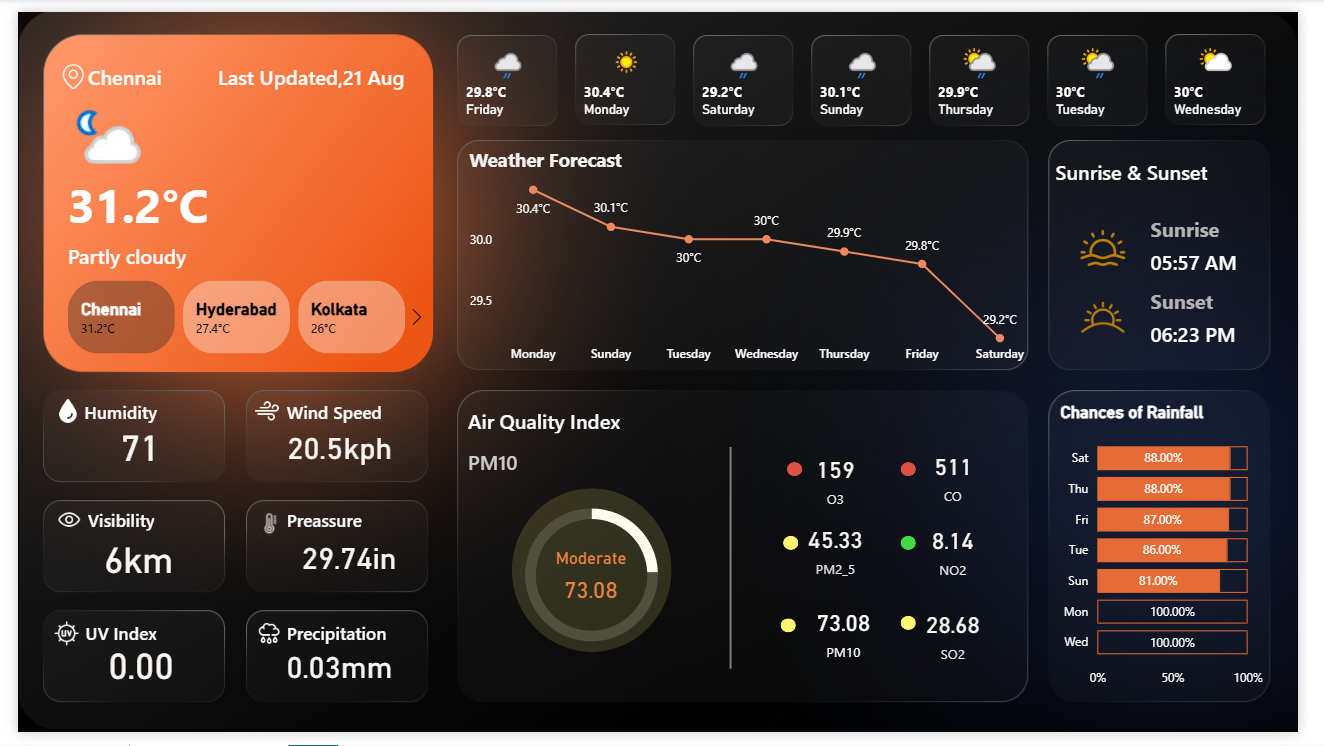

This screenshot's page, from the dashboard's own definition file:
{"tool":"powerbi","page":{"name":"Weather Report","canvas":[1280,720],"ordinal":0},"visuals":[{"type":"advancedSlicerVisual","fields":{"Values":["Locations.location.name"]},"box":[24.7,263.5,389.7,83.7],"z":0},{"type":"shape","box":[49.4,157.8,160.5,68.6],"z":1000},{"type":"shape","box":[49.4,212.7,273.1,61.7],"z":2000},{"type":"shape","box":[200.3,34.3,207.2,61.7],"z":3000},{"type":"shape","box":[70,34.3,130.4,61.7],"z":4000},{"type":"cardVisual","fields":{"Data":["Min(Current.current.condition.icon)"]},"box":[24.7,76.8,107,115.3],"z":5000},{"type":"image","box":[27.4,381.5,45.3,35.7],"z":6000},{"type":"image","box":[28.8,489.9,45.3,35.7],"z":7000},{"type":"image","box":[222.3,381.5,52.1,35.7],"z":8000},{"type":"image","box":[26.1,603.8,45.3,35.7],"z":9000},{"type":"image","box":[229.2,603.8,45.3,35.7],"z":10000},{"type":"image","box":[32.9,48,45.3,34.3],"z":11000},{"type":"shape","box":[65.9,369.1,130.4,61.7],"z":12000},{"type":"shape","box":[269,369.1,130.4,61.7],"z":13000},{"type":"shape","box":[269,590.1,130.4,61.7],"z":14000},{"type":"shape","box":[269,476.2,130.4,61.7],"z":15000},{"type":"shape","box":[70,476.2,130.4,61.7],"z":16000},{"type":"shape","box":[67.2,590.1,130.4,61.7],"z":17000},{"type":"card","fields":{"Values":["Sum(Current.current.humidity)"]},"box":[78.2,400.7,86.4,63.1],"z":18000},{"type":"card","fields":{"Values":["Table.Prep"]},"box":[245,622.2,153.5,62.1],"z":19000},{"type":"card","fields":{"Values":["Sum(Current.current.uv)"]},"box":[79.6,620.2,86.4,63.1],"z":20000},{"type":"card","fields":{"Values":["Table.Pressure"]},"box":[269.4,513,122.6,63.6],"z":21000},{"type":"card","fields":{"Values":["Table.Visiblity"]},"box":[66.2,515,108.8,61.2],"z":22000},{"type":"card","fields":{"Values":["Table.Wind_Speed"]},"box":[239.1,404.1,166.5,62],"z":23000},{"type":"advancedSlicerVisual","fields":{"Values":["Forecast_Days.Day_Name"]},"box":[429.9,12.6,833.3,110.3],"z":24000},{"type":"lineChart","title":"Weather Forecast","fields":{"Y":["Sum(Forecast_Days.forecast.forecastday.day.avgtemp_c)"],"Category":["Forecast_Days.Day_Name"]},"box":[446.8,134.7,571.9,225.5],"z":25000},{"type":"shape","box":[1038,134.7,189.7,48.1],"z":26000},{"type":"shape","box":[1132.9,225.5,100.4,49.5],"z":27000},{"type":"shape","box":[1132.9,297,100.4,49.5],"z":28000},{"type":"shape","box":[1132.9,192.5,100.4,49.5],"z":29000},{"type":"shape","box":[1132.9,264,100.4,49.5],"z":30000},{"type":"image","box":[1051.8,269.5,67.4,70.1],"z":31000},{"type":"image","box":[1051.8,209,67.4,55],"z":32000},{"type":"hundredPercentStackedBarChart","title":"Chances of Rainfall","fields":{"Category":["Forecast_Days.Day_Name2"],"Y":["Sum(Forecast_Days.forecast.forecastday.day.daily_chance_of_rain)","o.Left_Value_Rain"]},"box":[1037.5,389.7,212.3,294.4],"z":33000},{"type":"shape","box":[450,383.6,189.4,48.3],"z":34000},{"type":"card","fields":{"Values":["Sum(Current.current.air_quality.co)"]},"box":[878.6,428.9,112.7,70],"z":35000},{"type":"card","fields":{"Values":["Sum(Current.current.air_quality.no2)"]},"box":[878.8,502.5,112.5,70],"z":36000},{"type":"card","fields":{"Values":["Sum(Current.current.air_quality.so2)"]},"box":[878.6,585.7,112.7,70],"z":37000},{"type":"card","fields":{"Values":["Sum(Current.current.air_quality.o3)"]},"box":[761.6,431.5,112.7,70],"z":38000},{"type":"card","fields":{"Values":["Sum(Current.current.air_quality.pm2_5)"]},"box":[761.6,501.5,112.7,70],"z":39000},{"type":"card","fields":{"Values":["Sum(Current.current.air_quality.pm10)"]},"box":[525,536.2,96.2,63.8],"z":40000},{"type":"shape","box":[768.4,449.6,15.5,14.3],"z":41000},{"type":"shape","box":[882.4,449.6,15.5,14.3],"z":42000},{"type":"shape","box":[882.4,523.5,15.5,14.3],"z":43000},{"type":"shape","box":[882.4,603.8,15.5,14.3],"z":44000},{"type":"shape","box":[764.5,523.5,15.5,14.3],"z":45000},{"type":"shape","box":[761.9,606.4,15.5,14.3],"z":46000},{"type":"shape","box":[622,435.4,180.1,221.6],"z":47000},{"type":"donutChart","fields":{"Y":["Sum(Current.current.air_quality.pm10)","oo.Left_pm10"]},"box":[469.3,475.3,209.9,176.1],"z":48000},{"type":"shape","box":[493.8,476.2,160,163.8],"z":49000},{"type":"card","fields":{"Values":["Sum(Current.current.air_quality.pm10)"]},"box":[777.5,587.5,96.2,63.8],"z":50000},{"type":"shape","box":[450,436.2,75,25],"z":51000},{"type":"image","box":[225,492.5,52.5,38.8],"z":52000}]}

Visuals, with their boxes in screenshot pixels (x1, y1, x2, y2), scaled from the page's 1280x720 canvas onto the 1324x746 screenshot:
advancedSlicerVisual - Locations.location.name: 26, 273, 429, 360
shape: 51, 163, 217, 235
shape: 51, 220, 334, 284
shape: 207, 36, 422, 99
shape: 72, 36, 207, 99
cardVisual - Min(Current.current.condition.icon): 26, 80, 136, 199
image: 28, 395, 75, 432
image: 30, 508, 77, 545
image: 230, 395, 284, 432
image: 27, 626, 74, 663
image: 237, 626, 284, 663
image: 34, 50, 81, 85
shape: 68, 382, 203, 446
shape: 278, 382, 413, 446
shape: 278, 611, 413, 675
shape: 278, 493, 413, 557
shape: 72, 493, 207, 557
shape: 70, 611, 204, 675
card - Sum(Current.current.humidity): 81, 415, 170, 481
card - Table.Prep: 253, 645, 412, 709
card - Sum(Current.current.uv): 82, 643, 172, 708
card - Table.Pressure: 279, 532, 405, 597
card - Table.Visiblity: 68, 534, 181, 597
card - Table.Wind_Speed: 247, 419, 420, 483
advancedSlicerVisual - Forecast_Days.Day_Name: 445, 13, 1307, 127
"Weather Forecast" lineChart: 462, 140, 1054, 373
shape: 1074, 140, 1270, 189
shape: 1172, 234, 1276, 285
shape: 1172, 308, 1276, 359
shape: 1172, 199, 1276, 251
shape: 1172, 274, 1276, 325
image: 1088, 279, 1158, 352
image: 1088, 217, 1158, 274
"Chances of Rainfall" hundredPercentStackedBarChart: 1073, 404, 1293, 709
shape: 465, 397, 661, 447
card - Sum(Current.current.air_quality.co): 909, 444, 1025, 517
card - Sum(Current.current.air_quality.no2): 909, 521, 1025, 593
card - Sum(Current.current.air_quality.so2): 909, 607, 1025, 679
card - Sum(Current.current.air_quality.o3): 788, 447, 904, 520
card - Sum(Current.current.air_quality.pm2_5): 788, 520, 904, 592
card - Sum(Current.current.air_quality.pm10): 543, 556, 643, 622
shape: 795, 466, 811, 481
shape: 913, 466, 929, 481
shape: 913, 542, 929, 557
shape: 913, 626, 929, 640
shape: 791, 542, 807, 557
shape: 788, 628, 804, 643
shape: 643, 451, 830, 681
donutChart - Sum(Current.current.air_quality.pm10) x oo.Left_pm10: 485, 492, 703, 675
shape: 511, 493, 676, 663
card - Sum(Current.current.air_quality.pm10): 804, 609, 904, 675
shape: 465, 452, 543, 478
image: 233, 510, 287, 550
